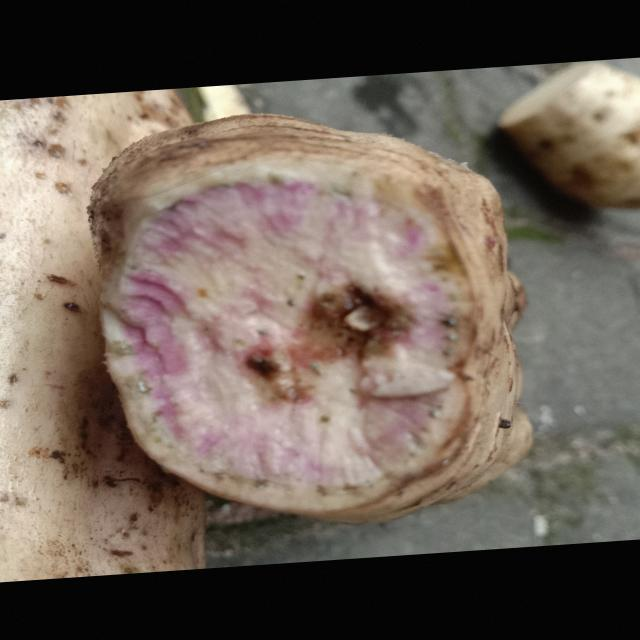Sick Sweet Potato_Tuber Rot: (112, 179, 462, 489)
